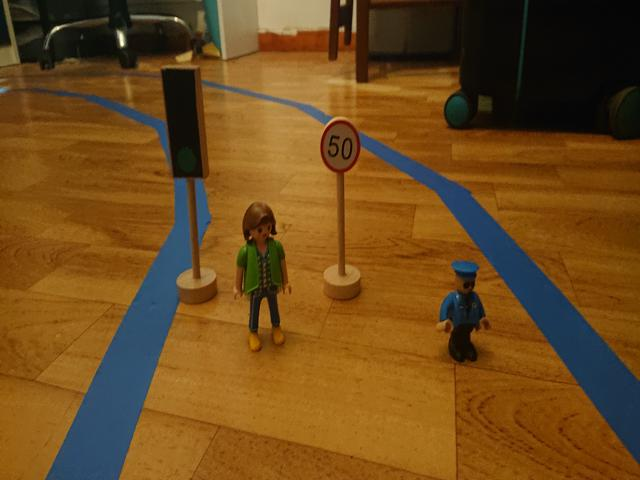50 speed sign: (320, 121, 362, 174)
green light: (164, 72, 201, 180)
person: (231, 198, 296, 349), (435, 258, 492, 364)
